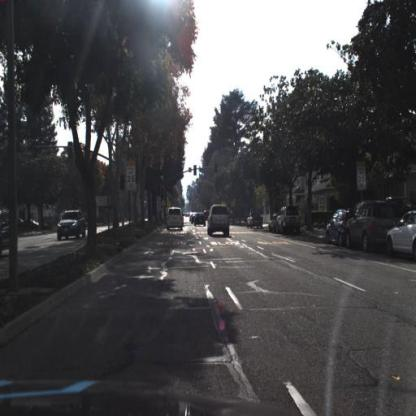car: (347, 202, 397, 255), (383, 207, 416, 267), (327, 207, 354, 252), (55, 209, 87, 240), (207, 204, 233, 239), (276, 205, 303, 235), (278, 205, 303, 237), (165, 205, 185, 233), (247, 208, 264, 231), (193, 213, 208, 229), (268, 210, 278, 234), (204, 209, 214, 221)
